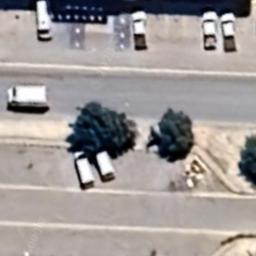pickup: (220, 12, 238, 52), (202, 11, 220, 50), (132, 10, 148, 48)
van: (6, 84, 48, 110), (74, 151, 96, 186), (36, 0, 54, 41), (96, 150, 116, 182)
